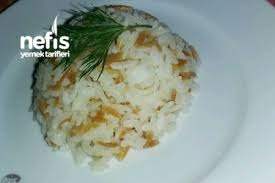pirinc_pilavi: (31, 5, 198, 165)
